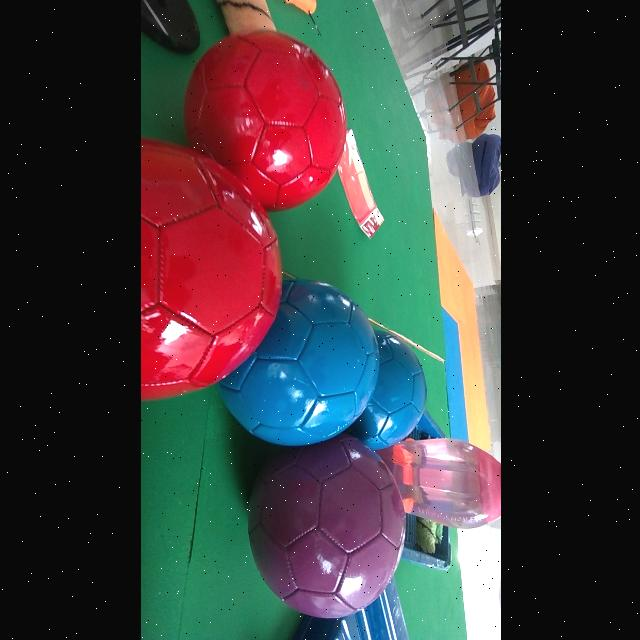B: (218, 281, 378, 446), (347, 330, 426, 450)
P: (249, 433, 404, 619)
R: (140, 138, 281, 401), (184, 30, 345, 211)
